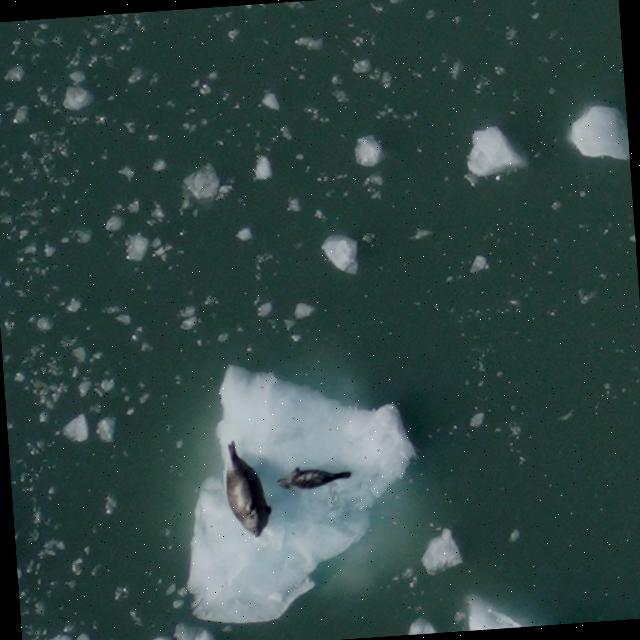seal: (221, 434, 277, 544), (273, 459, 357, 496)
